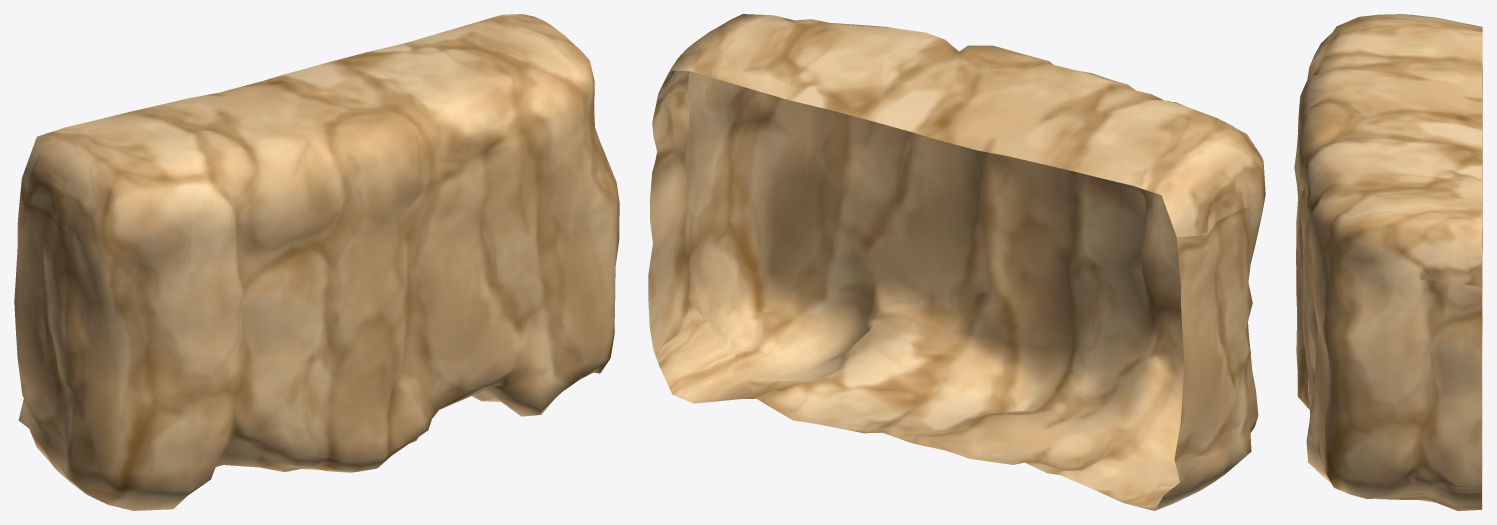
Rendered from SM_ENV_KNFRST_SmallCliff_A.FBX.
3 renders of one model, left to right at view 1: azimuth 30°, elevation 25°; view 2: azimuth 150°, elevation 25°; view 3: azimuth 270°, elevation 25°, orthographic. The views are drawn at different scales.
Visible parts, largest first — view 1: SM_ENV_KNFRST_SmallCliff_A; view 2: SM_ENV_KNFRST_SmallCliff_A; view 3: SM_ENV_KNFRST_SmallCliff_A.
Boxes of the visible parts, box(x1,y1,x2,y2) form: SM_ENV_KNFRST_SmallCliff_A: box(14, 14, 619, 510); SM_ENV_KNFRST_SmallCliff_A: box(648, 14, 1265, 510); SM_ENV_KNFRST_SmallCliff_A: box(1294, 14, 1482, 510).
Bounding box in the file's own units: 1570 × 966 × 541.
